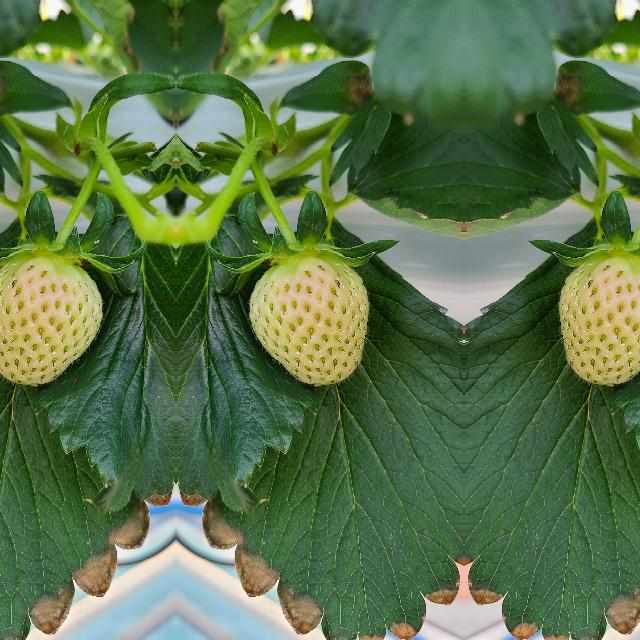Health_25: (246, 252, 370, 388), (0, 252, 104, 388), (555, 252, 640, 388)
